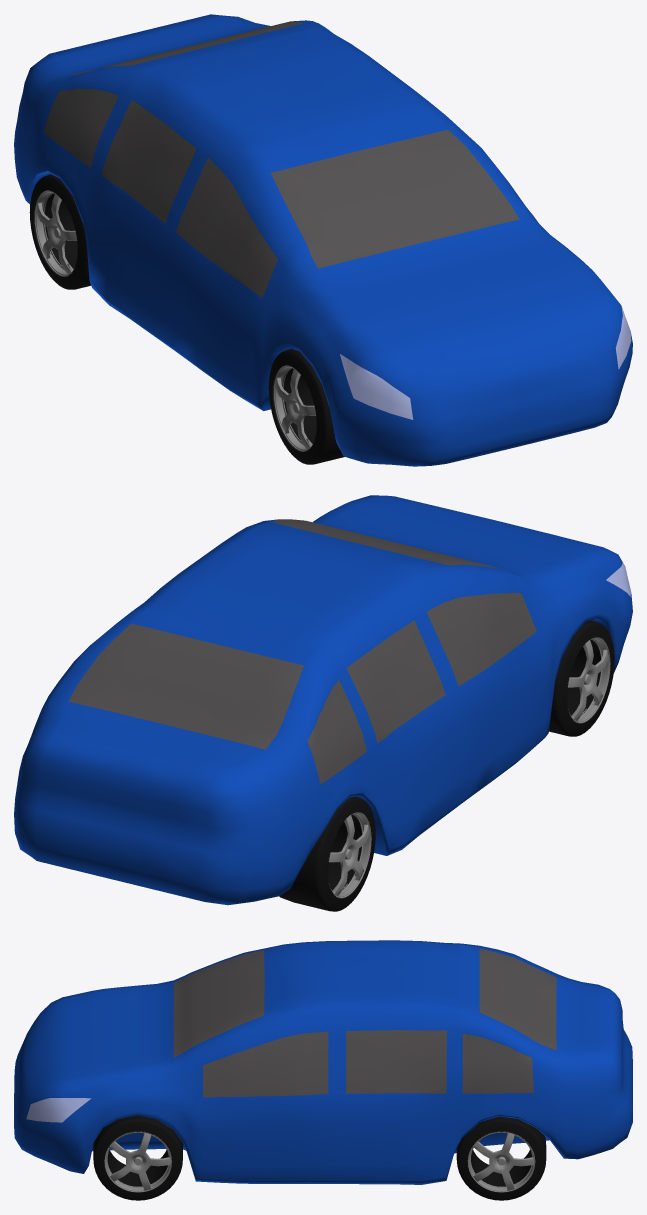
Rendered from Car.fbx.
3 renders of one model, top to bottom at view 1: azimuth 30°, elevation 25°; view 2: azimuth 150°, elevation 25°; view 3: azimuth 270°, elevation 25°, orthographic. The views are drawn at different scales.
Parts seen in each view (by area): view 1: Car_geo, WheelFrontRight, WheelBackRight; view 2: Car_geo, WheelBackRight, WheelFrontRight; view 3: Car_geo, WheelFrontLeft, WheelBackLeft.
Boxes of the visible parts, x1,y1,x2,y2 form: Car_geo: [14, 14, 632, 466]; WheelFrontRight: [268, 349, 344, 464]; WheelBackRight: [29, 174, 90, 289]; Car_geo: [14, 495, 632, 905]; WheelBackRight: [279, 796, 375, 911]; WheelFrontRight: [549, 620, 614, 736]; Car_geo: [14, 940, 632, 1184]; WheelFrontLeft: [93, 1115, 182, 1200]; WheelBackLeft: [456, 1116, 546, 1200].
Size of the model in its own units: 212 by 155 by 494.
